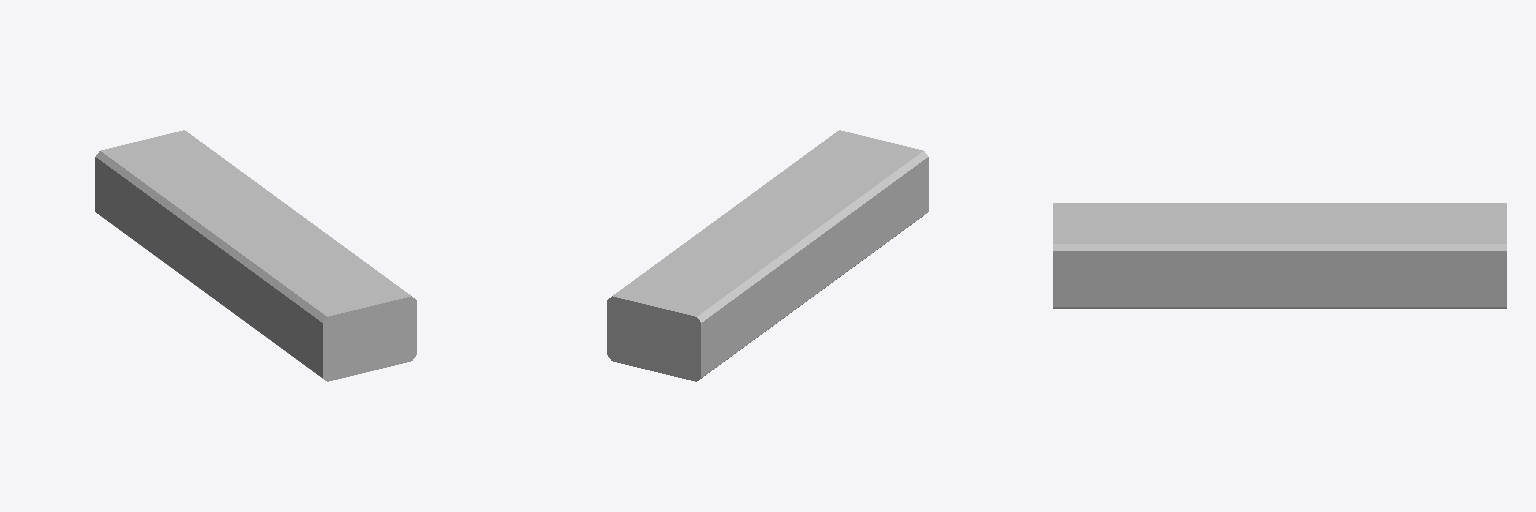
File: factory_rectangular_peg_12mm_loose_subdiv_3x.obj
The picture shows the model from 3 angles: view 1: azimuth 30°, elevation 25°; view 2: azimuth 150°, elevation 25°; view 3: azimuth 270°, elevation 25°; orthographic projection.
Parts seen in each view (by area): view 1: mesh2, mesh4, mesh5, mesh3; view 2: mesh2, mesh4, mesh6, mesh3; view 3: mesh0, mesh2, mesh1, mesh9.
Boxes of the visible parts, x1=… form: mesh2: x1=101, y1=130, x2=410, y2=316; mesh4: x1=95, y1=157, x2=322, y2=377; mesh5: x1=323, y1=296, x2=416, y2=381; mesh3: x1=96, y1=151, x2=326, y2=322; mesh2: x1=613, y1=130, x2=922, y2=316; mesh4: x1=701, y1=157, x2=928, y2=377; mesh6: x1=607, y1=296, x2=700, y2=381; mesh3: x1=697, y1=151, x2=927, y2=322; mesh0: x1=1053, y1=251, x2=1506, y2=306; mesh2: x1=1053, y1=203, x2=1506, y2=243; mesh1: x1=1053, y1=244, x2=1506, y2=250; mesh9: x1=1053, y1=307, x2=1506, y2=308.
Bounding box in the file's own units: 0.012 × 0.0079 × 0.05.